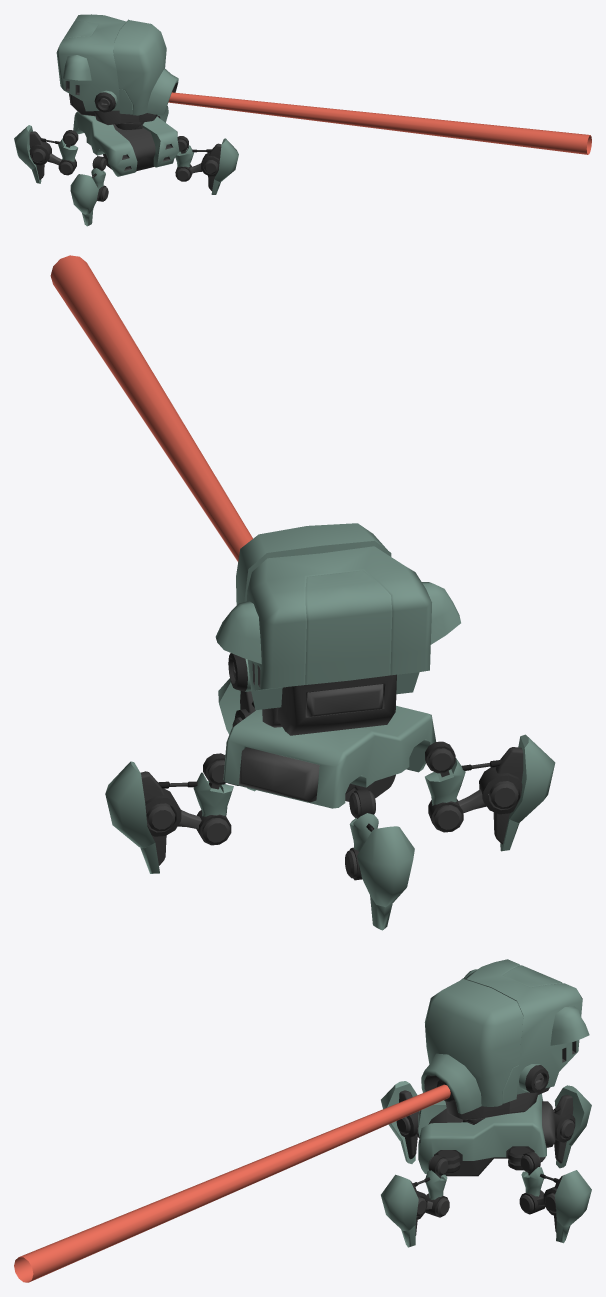
The model's file is bot.fbx.
3 renders of one model, top to bottom at view 1: azimuth 30°, elevation 25°; view 2: azimuth 150°, elevation 25°; view 3: azimuth 270°, elevation 25°, orthographic. The views are drawn at different scales.
Visible parts, largest first — view 1: Cylinder, Cube, Cube.004, Cube.001, Cube.003, Cube.006; view 2: Cube, Cube.001, Cube.006, Cylinder, Cube.003, Cube.004; view 3: Cylinder, Cube.004, Cube, Cube.001, Cube.006, Cube.003.
Part boxes in pixels (<box>): Cylinder: <box>168,92,591,154</box>; Cube: <box>56,14,177,129</box>; Cube.004: <box>113,20,178,115</box>; Cube.001: <box>73,111,179,176</box>; Cube.003: <box>70,136,238,226</box>; Cube.006: <box>14,105,168,183</box>; Cube: <box>215,540,460,735</box>; Cube.001: <box>223,705,435,808</box>; Cube.006: <box>105,753,414,930</box>; Cylinder: <box>50,255,252,561</box>; Cube.003: <box>218,678,555,851</box>; Cube.004: <box>236,523,391,604</box>; Cylinder: <box>14,1084,450,1282</box>; Cube.004: <box>421,979,523,1114</box>; Cube: <box>424,959,589,1124</box>; Cube.001: <box>418,1093,555,1176</box>; Cube.006: <box>519,1085,591,1243</box>; Cube.003: <box>381,1081,449,1247</box>.
Bounding box in the file's own units: 668 × 264 × 636.
